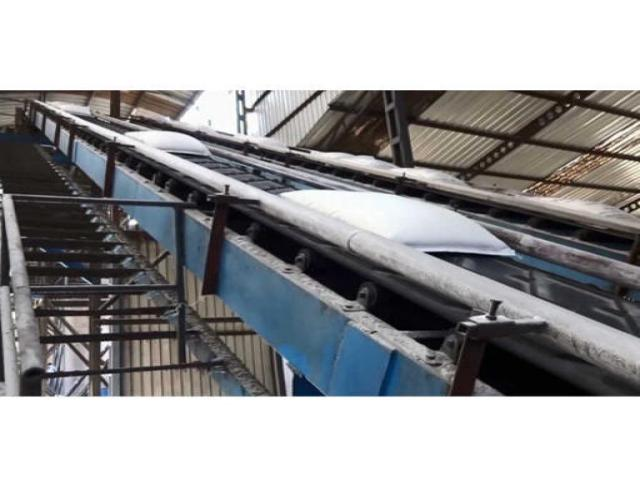conveyor: (12, 96, 638, 396)
